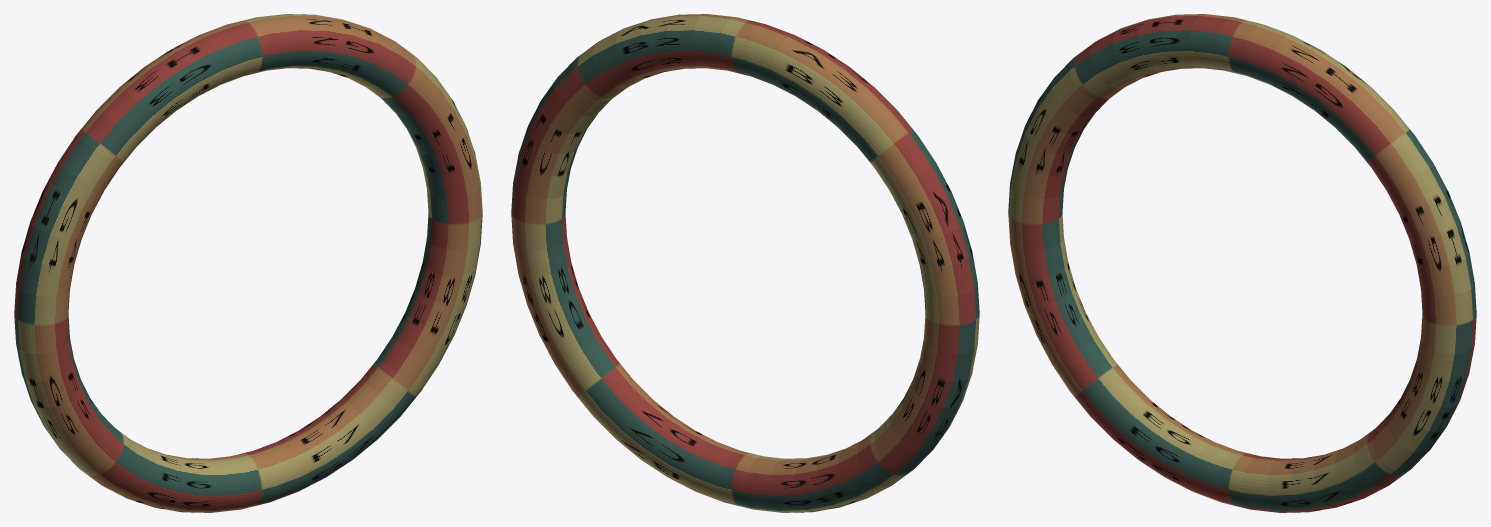
Rendered from texture_torus_R22_r3.glb.
3 renders of one model, left to right at view 1: azimuth 30°, elevation 25°; view 2: azimuth 150°, elevation 25°; view 3: azimuth 330°, elevation 25°, orthographic.
Parts seen in each view (by area): view 1: world; view 2: world; view 3: world.
Part boxes in pixels (box(x1,y1,x2,y2)): world: box(14, 14, 482, 512); world: box(511, 14, 979, 512); world: box(1008, 14, 1476, 512).
Bounding box in the file's own units: 27.47 × 27.41 × 2.79.
Materials: 1 (1 with a texture image).
